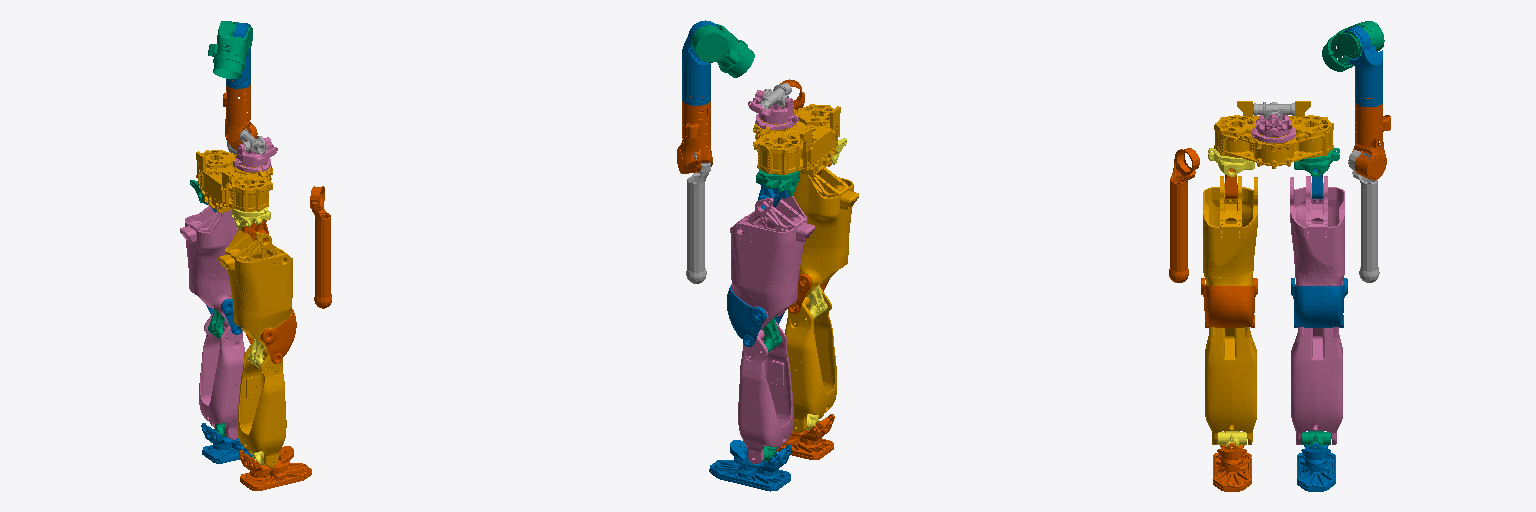
--- Render facts (derived) ---
The picture shows the robot from 3 angles, left to right: view 1: azimuth 30°, elevation 25°; view 2: azimuth 150°, elevation 25°; view 3: azimuth 270°, elevation 25°; orthographic projection.
Model nadia with 38 links and 37 joints (27 revolute, 10 fixed), rooted at PELVIS_LINK, posed all joints at 0.
Links seen in each view (by area): view 1: RIGHT_THIGH_LINK, RIGHT_SHIN_LINK, LEFT_THIGH_LINK, LEFT_SHIN_LINK, PELVIS_LINK, RIGHT_ELBOW_PITCH_LINK, RIGHT_FOOT_LINK, LEFT_SHOULDER_PITCH_LINK, LEFT_SHOULDER_YAW_LINK, RIGHT_KNEE_SHELL_LINK, LEFT_FOOT_LINK, SPINE_YAW_LINK (+2 smaller); view 2: LEFT_THIGH_LINK, LEFT_SHIN_LINK, RIGHT_THIGH_LINK, RIGHT_SHIN_LINK, PELVIS_LINK, LEFT_FOOT_LINK, LEFT_SHOULDER_PITCH_LINK, LEFT_ELBOW_PITCH_LINK, LEFT_SHOULDER_YAW_LINK, LEFT_SHOULDER_ROLL_LINK, LEFT_KNEE_SHELL_LINK, RIGHT_FOOT_LINK (+3 smaller); view 3: LEFT_SHIN_LINK, RIGHT_SHIN_LINK, LEFT_THIGH_LINK, RIGHT_THIGH_LINK, PELVIS_LINK, RIGHT_ELBOW_PITCH_LINK, RIGHT_KNEE_SHELL_LINK, LEFT_KNEE_SHELL_LINK, LEFT_SHOULDER_YAW_LINK, LEFT_ELBOW_PITCH_LINK, LEFT_SHOULDER_ROLL_LINK, LEFT_FOOT_LINK (+6 smaller).
Link boxes in pixels (left/top/right/bottom): RIGHT_THIGH_LINK: left=218, top=230, right=292, bottom=348; RIGHT_SHIN_LINK: left=237, top=341, right=286, bottom=467; LEFT_THIGH_LINK: left=180, top=205, right=237, bottom=320; LEFT_SHIN_LINK: left=199, top=312, right=244, bottom=439; PELVIS_LINK: left=196, top=150, right=272, bottom=212; RIGHT_ELBOW_PITCH_LINK: left=310, top=186, right=331, bottom=308; RIGHT_FOOT_LINK: left=239, top=446, right=311, bottom=490; LEFT_SHOULDER_PITCH_LINK: left=208, top=21, right=252, bottom=78; LEFT_SHOULDER_YAW_LINK: left=223, top=80, right=257, bottom=150; RIGHT_KNEE_SHELL_LINK: left=246, top=309, right=296, bottom=363; LEFT_FOOT_LINK: left=201, top=423, right=252, bottom=463; SPINE_YAW_LINK: left=233, top=136, right=277, bottom=172; LEFT_THIGH_LINK: left=730, top=196, right=814, bottom=329; LEFT_SHIN_LINK: left=738, top=320, right=793, bottom=464; RIGHT_THIGH_LINK: left=793, top=167, right=858, bottom=296; RIGHT_SHIN_LINK: left=785, top=287, right=836, bottom=432; PELVIS_LINK: left=753, top=104, right=840, bottom=175; LEFT_FOOT_LINK: left=709, top=440, right=791, bottom=491; LEFT_SHOULDER_PITCH_LINK: left=691, top=24, right=754, bottom=77; LEFT_ELBOW_PITCH_LINK: left=686, top=152, right=710, bottom=283; LEFT_SHOULDER_YAW_LINK: left=677, top=96, right=712, bottom=173; LEFT_SHOULDER_ROLL_LINK: left=682, top=20, right=718, bottom=105; LEFT_KNEE_SHELL_LINK: left=727, top=284, right=784, bottom=346; RIGHT_FOOT_LINK: left=777, top=414, right=834, bottom=459; LEFT_SHIN_LINK: left=1291, top=327, right=1342, bottom=444; RIGHT_SHIN_LINK: left=1205, top=327, right=1256, bottom=444; LEFT_THIGH_LINK: left=1290, top=176, right=1344, bottom=285; RIGHT_THIGH_LINK: left=1203, top=176, right=1257, bottom=285; PELVIS_LINK: left=1214, top=101, right=1333, bottom=168; RIGHT_ELBOW_PITCH_LINK: left=1169, top=148, right=1199, bottom=282; RIGHT_KNEE_SHELL_LINK: left=1201, top=278, right=1257, bottom=327; LEFT_KNEE_SHELL_LINK: left=1291, top=278, right=1347, bottom=327; LEFT_SHOULDER_YAW_LINK: left=1348, top=97, right=1390, bottom=179; LEFT_ELBOW_PITCH_LINK: left=1348, top=150, right=1379, bottom=282; LEFT_SHOULDER_ROLL_LINK: left=1343, top=26, right=1382, bottom=106; LEFT_FOOT_LINK: left=1297, top=431, right=1335, bottom=491.
Bounding box of the posed robot: 0.3882 × 0.6883 × 1.56 m (x, y, z).
24 mesh visuals loaded from 26 distinct referenced files (22 OBJ); not drawn: 4 (reference not matched to a file when rendering).

URDF robot description (nadia):
<?xml version = "1.0" ?>
<robot name="nadia" xmlns:xacro="http://www.ros.org/wiki/xacro">

<!-- revolute joints -->
<joint name="LEFT_HIP_Z" type="revolute">
    <origin rpy="0 0 0" xyz="0 0.115 -0.07185" />
    <axis xyz="0 0 -1" />
    <parent link="PELVIS_LINK" />
    <child link="LEFT_HIP_YAW_LINK" />
    <limit effort="1000" lower="-0.7854" upper="0.7854" velocity = "100" />
    <dynamics damping="0.05" friction="0.0"/>
</joint>

<joint name="RIGHT_HIP_Z" type="revolute">
    <origin rpy="0 0 0" xyz="0 -0.115 -0.07185" />
    <axis xyz="0 0 -1" />
    <parent link="PELVIS_LINK" />
    <child link="RIGHT_HIP_YAW_LINK" />
    <limit effort="1000" lower="-0.7854" upper="0.7854" velocity = "100" />
    <dynamics damping="0.05" friction="0.0"/>
</joint>

<joint name="LEFT_HIP_X" type="revolute">
    <origin rpy="0 0 0" xyz="0.035 0.015 -0.04975" />
    <axis xyz="1 0 0" />
    <parent link="LEFT_HIP_YAW_LINK" />
    <child link="LEFT_HIP_ROLL_LINK" />
    <limit effort="1000" lower="-0.5236" upper="1.0472" velocity = "100" />
    <dynamics damping="0.05" friction="0.0"/>
</joint>

<joint name="RIGHT_HIP_X" type="revolute">
    <origin rpy="0 0 0" xyz="0.035 -0.015 -0.04975" />
    <axis xyz="1 0 0" />
    <parent link="RIGHT_HIP_YAW_LINK" />
    <child link="RIGHT_HIP_ROLL_LINK" />
    <limit effort="1000" lower="-1.0472" upper="0.5236" velocity = "100" />
    <dynamics damping="0.05" friction="0.0"/>
</joint>

<joint name="LEFT_HIP_Y" type="revolute">
    <origin rpy="0 0 0" xyz="0 0 -0.079068" />
    <axis xyz="0 1 0" />
    <parent link="LEFT_HIP_ROLL_LINK" />
    <child link="LEFT_THIGH_LINK" />
    <limit effort="1000" lower="-1.57" upper="0.314" velocity = "100" />
    <dynamics damping="0.05" friction="0.0"/>
</joint>

<joint name="RIGHT_HIP_Y" type="revolute">
    <origin rpy="0 0 0" xyz="0 0 -0.079068" />
    <axis xyz="0 1 0" />
    <parent link="RIGHT_HIP_ROLL_LINK" />
    <child link="RIGHT_THIGH_LINK" />
    <limit effort="1000" lower="-1.57" upper="0.314" velocity = "100" />
    <dynamics damping="0.05" friction="0.0"/>
</joint>

<joint name="LEFT_KNEE_SHELL_UPPER_Y" type="revolute">
    <origin rpy="0 0 0" xyz="-0.02113091 0 -0.33468461" />
    <axis xyz="0 1 0" />
    <parent link="LEFT_THIGH_LINK" />
    <child link="LEFT_KNEE_SHELL_LINK" />
    <limit effort="1000" lower="0" upper="2.62" velocity = "100" />
    <dynamics damping="0.05" friction="0.0"/>
</joint>

<joint name="RIGHT_KNEE_SHELL_UPPER_Y" type="revolute">
    <origin rpy="0 0 0" xyz="-0.02113091 0 -0.33468461" />
    <axis xyz="0 1 0" />
    <parent link="RIGHT_THIGH_LINK" />
    <child link="RIGHT_KNEE_SHELL_LINK" />
    <limit effort="1000" lower="0" upper="2.62" velocity = "100" />
    <dynamics damping="0.05" friction="0.0"/>
</joint>

<joint name="LEFT_KNEE_LINKAGE_UPPER_Y" type="revolute">
    <origin rpy="0 0 0" xyz="0 0 -0.38" />
    <axis xyz="0 1 0" />
    <parent link="LEFT_THIGH_LINK" />
    <child link="LEFT_KNEE_LINKAGE_LINK" />
    <limit effort="1000" lower="0" upper="2.62" velocity = "100" />
    <dynamics damping="0.05" friction="0.0"/>
</joint>

<joint name="RIGHT_KNEE_LINKAGE_UPPER_Y" type="revolute">
    <origin rpy="0 0 0" xyz="0 0 -0.38" />
    <axis xyz="0 1 0" />
    <parent link="RIGHT_THIGH_LINK" />
    <child link="RIGHT_KNEE_LINKAGE_LINK" />
    <limit effort="1000" lower="0" upper="2.62" velocity = "100" />
    <dynamics damping="0.05" friction="0.0"/>
</joint>

<joint name="LEFT_KNEE_SHELL_LOWER_Y" type="revolute">
    <origin rpy="0 0 0" xyz="0.04231885 0 -0.10153381" />
    <axis xyz="0 1 0" />
    <parent link="LEFT_KNEE_SHELL_LINK" />
    <child link="LEFT_SHIN_LINK" />
    <limit effort="1000" lower="0" upper="2.62" velocity = "100" />
    <dynamics damping="0.05" friction="0.0"/>
</joint>

<joint name="RIGHT_KNEE_SHELL_LOWER_Y" type="revolute">
    <origin rpy="0 0 0" xyz="0.04231885 0 -0.10153381" />
    <axis xyz="0 1 0" />
    <parent link="RIGHT_KNEE_SHELL_LINK" />
    <child link="RIGHT_SHIN_LINK" />
    <limit effort="1000" lower="0" upper="2.62" velocity = "100" />
    <dynamics damping="0.05" friction="0.0"/>
</joint>

<!--joint name="LEFT_KNEE_LINKAGE_LOWER_Y" type="revolute">
    <origin rpy="0 0 0" xyz="-0.01711428 0 -0.0883578" />
    <axis xyz="0 1 0" />
    <parent link="LEFT_KNEE_LINKAGE_LINK" />
    <child link="LEFT_SHIN_LINK" />
    <limit effort="1000" lower="0" upper="2.62" velocity = "100" />
    <dynamics damping="0.05" friction="0.0"/>
</joint>

<joint name="RIGHT_KNEE_LINKAGE_LOWER_Y" type="revolute">
    <origin rpy="0 0 0" xyz="-0.01711428 0 -0.0883578" />
    <axis xyz="0 1 0" />
    <parent link="RIGHT_KNEE_LINKAGE_LINK" />
    <child link="RIGHT_SHIN_LINK" />
    <limit effort="1000" lower="0" upper="2.62" velocity = "100" />
    <dynamics damping="0.05" friction="0.0"/>
</joint-->

<joint name="LEFT_ANKLE_Y" type="revolute">
    <origin rpy="0 0 0" xyz="-0.00830222 0 -0.40213938" />
    <axis xyz="0 1 0" />
    <parent link="LEFT_SHIN_LINK" />
    <child link="LEFT_ANKLE_LINK" />
    <limit effort="1000" lower="-1.0472" upper="0.698132" velocity = "100" />
    <dynamics damping="0.05" friction="0.0"/>
</joint>

<joint name="RIGHT_ANKLE_Y" type="revolute">
    <origin rpy="0 0 0" xyz="-0.00830222 0 -0.40213938" />
    <axis xyz="0 1 0" />
    <parent link="RIGHT_SHIN_LINK" />
    <child link="RIGHT_ANKLE_LINK" />
    <limit effort="1000" lower="-1.0472" upper="0.698132" velocity = "100" />
    <dynamics damping="0.05" friction="0.0"/>
</joint>

<joint name="LEFT_ANKLE_X" type="revolute">
    <origin rpy="0 0 0" xyz="0 0 -0.01" />
    <axis xyz="1 0 0" />
    <parent link="LEFT_ANKLE_LINK" />
    <child link="LEFT_FOOT_LINK" />
    <limit effort="1000" lower="-0.436332" upper="0.436332" velocity = "100" />
    <dynamics damping="0.05" friction="0.0"/>
</joint>

<joint name="RIGHT_ANKLE_X" type="revolute">
    <origin rpy="0 0 0" xyz="0 0 -0.01" />
    <axis xyz="1 0 0" />
    <parent link="RIGHT_ANKLE_LINK" />
    <child link="RIGHT_FOOT_LINK" />
    <limit effort="1000" lower="-0.436332" upper="0.436332" velocity = "100" />
    <dynamics damping="0.05" friction="0.0"/>
</joint>

<joint name="SPINE_Z" type="revolute">
    <origin rpy="0 0 0" xyz="0.08 0 0.00635" />
    <axis xyz="0 0 1" />
    <parent link="PELVIS_LINK" />
    <child link="SPINE_YAW_LINK" />
    <limit effort="1000" lower="-1.0472" upper="1.0472" velocity = "100" />
    <dynamics damping="0.05" friction="0.0"/>
</joint>

<joint name="SPINE_X" type="revolute">
    <origin rpy="0 0 0" xyz="0 0 0.08205" />
    <axis xyz="1 0 0" />
    <parent link="SPINE_YAW_LINK" />
    <child link="SPINE_ROLL_LINK" />
    <limit effort="1000" lower="-0.523599" upper="0.523599" velocity = "100" />
    <dynamics damping="0.05" friction="0.0"/>
</joint>

<joint name="SPINE_Y" type="revolute">
    <origin rpy="0 0 0" xyz="0 0 0.01" />
    <axis xyz="0 1 0" />
    <parent link="SPINE_ROLL_LINK" />
    <child link="TORSO_LINK" />
    <limit effort="1000" lower="-1.0472" upper="1.0472" velocity = "100" />
    <dynamics damping="0.05" friction="0.0"/>
</joint>


<!-- links -->
<link name="PELVIS_LINK">
  <inertial>
    <mass value="19.0917"/>
    <origin rpy="0 0 0" xyz="0.02073086 2.023E-05 -0.0309812"/>
    <inertia ixx="0.0942" ixy="6.05E-06" ixz="0.000379" iyy="0.0416" iyz="3.37E-07" izz="0.112" />
  </inertial>
  <visual>
    <geometry>
      <mesh filename="package://nadia_V16_description/meshes/pelvis.obj"/>
    </geometry>
    <origin rpy="0.0 0.0 0.0" xyz="0.0 0.0 0.0"/>
  </visual>
</link>

<!-- pelvis_stim_imu -->
  <joint name="PELVIS_STIM_IMU_JOINT" type="fixed">
    <parent link="PELVIS_LINK"/>
    <child link="PELVIS_STIM_IMU_LINK"/>
    <origin xyz="-0.03133646 0.02237500 -0.07000000" rpy="0.0 3.141592 0.0"/>
  </joint>

  <link name="PELVIS_STIM_IMU_LINK">
    <inertial>
      <mass value="0.0" />
      <origin xyz="0 0 0" rpy="0 0 0" />
      <inertia ixx="0.0" ixy="0.0" ixz="0.0" iyy="0.0" iyz="0.0" izz="0.0" />
    </inertial>
  </link>

  <gazebo reference="PELVIS_STIM_IMU_LINK">
    <sensor name="pelvis_stim_imu" type="imu">
      <always_on>1</always_on>
      <update_rate>1000.0</update_rate>
      <imu>
        <noise>
          <type>gaussian</type>
          <rate>
            <mean>0.0</mean>
            <stddev>2e-4</stddev>
            <bias_mean>0.0000075</bias_mean>
            <bias_stddev>0.0000008</bias_stddev>
          </rate>
          <accel>
            <mean>0.0</mean>
            <stddev>1.7e-2</stddev>
            <bias_mean>0.1</bias_mean>
            <bias_stddev>0.001</bias_stddev>
          </accel>
        </noise>
      </imu>
    </sensor>
  </gazebo>
 <!-- end pelvis stim imu -->

<link name="LEFT_HIP_YAW_LINK">
  <inertial>
    <mass value="1.814"/>
    <origin rpy="0 0 0" xyz="-0.00629727 0.00606893 -0.03971844"/>
    <inertia ixx="0.004741914" ixy="0.000527" ixz="-0.000307" iyy="0.00414" iyz="1.36E-05" izz="0.00569" />
  </inertial>
  <visual>
    <geometry>
      <mesh filename="package://nadia_V16_description/meshes/left_hip_yaw.obj"/>
    </geometry>
    <origin rpy="0.0 0.0 0.0" xyz="0.0 0.0 0.0"/>
  </visual>
</link>

<link name="RIGHT_HIP_YAW_LINK">
  <inertial>
    <mass value="1.814"/>
    <origin rpy="0 0 0" xyz="-0.00629727 -0.00606893 -0.03971844"/>
    <inertia ixx="0.004741914" ixy="-0.000527" ixz="-0.000307" iyy="0.00414" iyz="-1.36E-05" izz="0.00569" />
  </inertial>
  <visual>
    <geometry>
      <mesh filename="package://nadia_V16_description/meshes/right_hip_yaw.obj"/>
    </geometry>
    <origin rpy="0.0 0.0 0.0" xyz="0.0 0.0 0.0"/>
  </visual>
</link>

<link name="LEFT_HIP_ROLL_LINK">
  <inertial>
    <mass value="0.762"/>
    <origin rpy="0 0 0" xyz="-0.01327037 0.00316985 -0.05399997"/>
    <inertia ixx="0.001028994" ixy="-9.31E-06" ixz="0.000352" iyy="0.00138" iyz="3.22E-05" izz="0.000663" />
  </inertial>
  <visual>
    <geometry>
      <mesh filename="package://nadia_V16_description/meshes/left_hip_roll.obj"/>
    </geometry>
    <origin rpy="0.0 0.0 0.0" xyz="0.0 0.0 0.0"/>
  </visual>
</link>

<link name="RIGHT_HIP_ROLL_LINK">
  <inertial>
    <mass value="0.762"/>
    <origin rpy="0 0 0" xyz="-0.01327037 -0.00316985 -0.05399997"/>
    <inertia ixx="0.001028994" ixy="9.31E-06" ixz="0.000352" iyy="0.00138" iyz="-3.22E-05" izz="0.000663" />
  </inertial>
  <visual>
    <geometry>
      <mesh filename="package://nadia_V16_description/meshes/right_hip_roll.obj"/>
    </geometry>
    <origin rpy="0.0 0.0 0.0" xyz="0.0 0.0 0.0"/>
  </visual>
</link>

<link name="LEFT_THIGH_LINK">
  <inertial>
    <mass value="10.953"/>
    <origin rpy="0 0 0" xyz="-0.00093749 0.01134511 -0.17863144"/>
    <inertia ixx="0.1622268263" ixy="-0.000749" ixz="0.0156" iyy="0.174" iyz="0.00213" izz="0.0528" />
  </inertial>
  <visual>
    <geometry>
      <mesh filename="package://nadia_V16_description/meshes/left_thigh.obj"/>
    </geometry>
    <origin rpy="0.0 0.0 0.0" xyz="0.0 0.0 0.0"/>
  </visual>
</link>

<!-- left thigh imu -->
  <joint name="LEFT_THIGH_IMU_JOINT" type="fixed">
    <parent link="LEFT_THIGH_LINK"/>
    <child link="LEFT_THIGH_IMU_LINK"/>
    <origin xyz="0.05793744 0.01666131 -0.09511697" rpy="2.025  0.000 -1.571"/>  
  </joint>

  <link name="LEFT_THIGH_IMU_LINK">
    <inertial>
      <mass value="0.0" />
      <origin xyz="0 0 0" rpy="0 0 0" />
      <inertia ixx="0.0" ixy="0.0" ixz="0.0" iyy="0.0" iyz="0.0" izz="0.0" />
    </inertial>
  </link>

  <gazebo reference="LEFT_THIGH_IMU_LINK">
    <sensor name="left_thigh_imu" type="imu">
      <always_on>1</always_on>
      <update_rate>1000.0</update_rate>
      <imu>
        <noise>
          <type>gaussian</type>
          <rate>
            <mean>0.0</mean>
            <stddev>2e-4</stddev>
            <bias_mean>0.0000075</bias_mean>
            <bias_stddev>0.0000008</bias_stddev>
          </rate>
          <accel>
            <mean>0.0</mean>
            <stddev>1.7e-2</stddev>
            <bias_mean>0.1</bias_mean>
            <bias_stddev>0.001</bias_stddev>
          </accel>
        </noise>
      </imu>
    </sensor>
  </gazebo>
<!-- end left thigh imu -->

<link name="RIGHT_THIGH_LINK">
  <inertial>
    <mass value="10.953"/>
    <origin rpy="0 0 0" xyz="-0.00093749 -0.01134511 -0.17863144"/>
    <inertia ixx="0.1622268263" ixy="0.000749" ixz="0.0156" iyy="0.174" iyz="-0.00213" izz="0.0528" />
  </inertial>
  <visual>
    <geometry>
      <mesh filename="package://nadia_V16_description/meshes/right_thigh.obj"/>
    </geometry>
    <origin rpy="0.0 0.0 0.0" xyz="0.0 0.0 0.0"/>
  </visual>
</link>

<!-- right thigh imu -->
  <joint name="RIGHT_THIGH_IMU_JOINT" type="fixed">
    <parent link="RIGHT_THIGH_LINK"/>
    <child link="RIGHT_THIGH_IMU_LINK"/>
    <origin xyz="0.05793670 0.01066129 -0.09511742" rpy="2.025  0.000 -1.571"/>  
  </joint>

  <link name="RIGHT_THIGH_IMU_LINK">
    <inertial>
      <mass value="0.0" />
      <origin xyz="0 0 0" rpy="0 0 0" />
      <inertia ixx="0.0" ixy="0.0" ixz="0.0" iyy="0.0" iyz="0.0" izz="0.0" />
    </inertial>
  </link>

  <gazebo reference="RIGHT_THIGH_IMU_LINK">
    <sensor name="right_thigh_imu" type="imu">
      <always_on>1</always_on>
      <update_rate>1000.0</update_rate>
      <imu>
        <noise>
          <type>gaussian</type>
          <rate>
            <mean>0.0</mean>
            <stddev>2e-4</stddev>
            <bias_mean>0.0000075</bias_mean>
            <bias_stddev>0.0000008</bias_stddev>
          </rate>
          <accel>
            <mean>0.0</mean>
            <stddev>1.7e-2</stddev>
            <bias_mean>0.1</bias_mean>
            <bias_stddev>0.001</bias_stddev>
          </accel>
        </noise>
      </imu>
    </sensor>
  </gazebo>
<!-- end right thigh imu -->

<link name="LEFT_KNEE_LINKAGE_LINK">
  <inertial>
    <mass value="0.936"/>
    <origin rpy="0 0 0" xyz="0.00901763 0.00753613 -0.04368231"/>
    <inertia ixx="0.002617337" ixy="3.06E-07" ixz="0.000313" iyy="0.00159" iyz="1.51E-06" izz="0.00128" />
  </inertial>
  <visual>
    <geometry>
      <mesh filename="package://nadia_V16_description/meshes/left_knee_linkage.obj"/>
    </geometry>
    <origin rpy="0.0 0.0 0.0" xyz="0.0 0.0 0.0"/>
  </visual>
</link>

<link name="RIGHT_KNEE_LINKAGE_LINK">
  <inertial>
    <mass value="0.936"/>
    <origin rpy="0 0 0" xyz="0.00901763 -0.00753613 -0.04368231"/>
    <inertia ixx="0.002617337" ixy="-3.06E-07" ixz="0.000313" iyy="0.00159" iyz="-1.51E-06" izz="0.00128" />
  </inertial>
  <visual>
    <geometry>
      <mesh filename="package://nadia_V16_description/meshes/right_knee_linkage.obj"/>
    </geometry>
    <origin rpy="0.0 0.0 0.0" xyz="0.0 0.0 0.0"/>
  </visual>
</link>

<link name="LEFT_KNEE_SHELL_LINK">
  <inertial>
    <mass value="1.101"/>
    <origin rpy="0 0 0" xyz="0.02489954 0.00826196 -0.05330217"/>
    <inertia ixx="0.00642" ixy="-3.64E-05" ixz="1.43E-05" iyy="0.00456" iyz="-6.54E-05" izz="0.00566" />
  </inertial>
  <visual>
    <geometry>
      <mesh filename="package://nadia_V16_description/meshes/left_knee_shell.obj"/>
    </geometry>
    <origin rpy="0.0 0.0 0.0" xyz="0.0 0.0 0.0"/>
  </visual>
</link>

<link name="RIGHT_KNEE_SHELL_LINK">
  <inertial>
    <mass value="1.101"/>
    <origin rpy="0 0 0" xyz="0.02489954 -0.00826196 -0.05330217"/>
    <inertia ixx="0.00642" ixy="3.64E-05" ixz="1.43E-05" iyy="0.00456" iyz="6.54E-05" izz="0.00566" />
  </inertial>
  <visual>
    <geometry>
      <mesh filename="package://nadia_V16_description/meshes/right_knee_shell.obj"/>
    </geometry>
    <origin rpy="0.0 0.0 0.0" xyz="0.0 0.0 0.0"/>
  </visual>
</link>

<link name="LEFT_SHIN_LINK">
  <inertial>
    <mass value="5.42"/>
    <origin rpy="0 0 0" xyz="-0.01841492 0.00228086 -0.22054239"/>
    <inertia ixx="0.064437783" ixy="-0.000214" ixz="-0.00538" iyy="0.0583" iyz="-0.000962" izz="0.0136" />
  </inertial>
  <visual>
    <geometry>
      <mesh filename="package://nadia_V16_description/meshes/left_shin.obj"/>
    </geometry>
    <origin rpy="0.0 0.0 0.0" xyz="0.0 0.0 0.0"/>
  </visual>
</link>


<!-- left shin imu -->
  <joint name="LEFT_SHIN_IMU_JOINT" type="fixed">
    <parent link="LEFT_SHIN_LINK"/>
    <child link="LEFT_SHIN_IMU_LINK"/>
    <origin xyz="-0.03216129 -0.07159184 -0.1864738" rpy="-1.570796 0.0 0.0"/>  
  </joint>

  <link name="LEFT_SHIN_IMU_LINK">
    <inertial>
      <mass value="0.0" />
      <origin xyz="0 0 0" rpy="0 0 0" />
      <inertia ixx="0.0" ixy="0.0" ixz="0.0" iyy="0.0" iyz="0.0" izz="0.0" />
    </inertial>
  </link>

  <gazebo reference="LEFT_SHIN_IMU_LINK">
    <sensor name="left_shin_imu" type="imu">
      <always_on>1</always_on>
      <update_rate>1000.0</update_rate>
      <imu>
        <noise>
          <type>gaussian</type>
          <rate>
            <mean>0.0</mean>
            <stddev>2e-4</stddev>
            <bias_mean>0.0000075</bias_mean>
            <bias_stddev>0.0000008</bias_stddev>
          </rate>
          <accel>
            <mean>0.0</mean>
            <stddev>1.7e-2</stddev>
            <bias_mean>0.1</bias_mean>
            <bias_stddev>0.001</bias_stddev>
          </accel>
        </noise>
      </imu>
    </sensor>
  </gazebo>
<!-- end left shin imu -->

<link name="RIGHT_SHIN_LINK">
  <inertial>
    <mass value="5.42"/>
    <origin rpy="0 0 0" xyz="-0.01837047 -0.00241134 -0.21991278"/>
    <inertia ixx="0.064443143" ixy="0.000202" ixz="-0.00539" iyy="0.0583" iyz="0.000906" izz="0.0136" />
  </inertial>
  <visual>
    <geometry>
      <mesh filename="package://nadia_V16_description/meshes/right_shin.obj"/>
    </geometry>
    <origin rpy="0.0 0.0 0.0" xyz="0.0 0.0 0.0"/>
  </visual>
</link>

<!-- right shin imu -->
  <joint name="RIGHT_SHIN_IMU_JOINT" type="fixed">
    <parent link="RIGHT_SHIN_LINK"/>
    <child link="RIGHT_SHIN_IMU_LINK"/>
    <origin xyz="-0.002838710 0.07159142 -0.1864738" rpy="-1.570796 0.0 3.141592"/>  
  </joint>

  <link name="RIGHT_SHIN_IMU_LINK">
    <inertial>
      <mass value="0.0" />
      <origin xyz="0 0 0" rpy="0 0 0" />
      <inertia ixx="0.0" ixy="0.0" ixz="0.0" iyy="0.0" iyz="0.0" izz="0.0" />
    </inertial>
  </link>

  <gazebo reference="RIGHT_SHIN_IMU_LINK">
    <sensor name="right_shin_imu" type="imu">
      <always_on>1</always_on>
      <update_rate>1000.0</update_rate>
      <imu>
        <noise>
          <type>gaussian</type>
          <rate>
            <mean>0.0</mean>
            <stddev>2e-4</stddev>
            <bias_mean>0.0000075</bias_mean>
            <bias_stddev>0.0000008</bias_stddev>
          </rate>
          <accel>
            <mean>0.0</mean>
            <stddev>1.7e-2</stddev>
            <bias_mean>0.1</bias_mean>
            <bias_stddev>0.001</bias_stddev>
          </accel>
        </noise>
      </imu>
    </sensor>
  </gazebo>
<!-- end right shin imu -->

<link name="LEFT_ANKLE_LINK">
  <inertial>
    <mass value="0.56"/>
    <origin rpy="0 0 0" xyz="-0.00072338 -6.619E-05 -0.00399965"/>
    <inertia ixx="0.000459" ixy="2.65E-08" ixz="-2.43E-06" iyy="0.000336" iyz="1.48E-07" izz="0.000645" />
  </inertial>
  <visual>
    <geometry>
      <mesh filename="package://nadia_V16_description/meshes/ankle.obj"/>
    </geometry>
    <origin rpy="0.0 0.0 0.0" xyz="0.0 0.0 0.0"/>
  </visual>
</link>

<link name="RIGHT_ANKLE_LINK">
  <inertial>
    <mass value="0.56"/>
    <origin rpy="0 0 0" xyz="-0.00072338 6.619E-05 -0.00399965"/>
    <inertia ixx="0.000459" ixy="-2.65E-08" ixz="-2.43E-06" iyy="0.000336" iyz="-1.48E-07" izz="0.000645" />
  </inertial>
  <visual>
    <geometry>
      <mesh filename="package://nadia_V16_description/meshes/ankle.obj"/>
    </geometry>
    <origin rpy="0.0 0.0 0.0" xyz="0.0 0.0 0.0"/>
  </visual>
</link>

<link name="LEFT_FOOT_LINK">
  <inertial>
    <mass value="1.75"/>
    <origin rpy="0 0 0" xyz="0.03075449 0.00007807 -0.04382467"/>
    <inertia ixx="0.00345011" ixy="-0.0000073" ixz="0.0014225" iyy="0.00955764" iyz="-2.269e-7" izz="0.00881313" />
  </inertial>
  <visual>
    <geometry>
      <mesh filename="package://nadia_V16_description/meshes/foot.obj"/>
    </geometry>
    <origin rpy="0.0 0.0 0.0" xyz="0.0 0.0 0.0"/>
  </visual>
</link>

<link name="RIGHT_FOOT_LINK">
  <inertial>
    <mass value="1.75"/>
    <origin rpy="0 0 0" xyz="0.032048 4e-06 -0.028422"/>
    <inertia ixx="0.00345011" ixy="-0.0000073" ixz="0.0014225" iyy="0.00955764" iyz="-2.269e-7" izz="0.00881313" />
  </inertial>
  <visual>
    <geometry>
      <mesh filename="package://nadia_V16_description/meshes/foot.obj"/>
    </geometry>
    <origin rpy="0.0 0.0 0.0" xyz="0.0 0.0 0.0"/>
  </visual>
</link>

<link name="SPINE_YAW_LINK">
  <inertial>
    <mass value="0.91"/>
    <origin rpy="0 0 0" xyz="-0.00853118 -2.697E-05 0.03791445"/>
    <inertia ixx="0.00374289408" ixy="1.25497934E-07" ixz="0.000271325072" iyy="0.00403002777" iyz="-1.38015692E-07" izz="0.0062129847" />
  </inertial>
  <visual>
    <geometry>
      <mesh filename="package://nadia_V16_description/meshes/spine_yaw.obj"/>
    </geometry>
    <origin rpy="0.0 0.0 0.0" xyz="0.0 0.0 0.0"/>
  </visual>
</link>

<link name="SPINE_ROLL_LINK">
  <inertial>
    <mass value="0.44"/>
    <origin rpy="0 0 0" xyz="-0.01904983 7E-08 0.01979244"/>
    <inertia ixx="0.000373262301" ixy="-1.51441878E-10" ixz="-6.69067307E-05" iyy="0.000649978475" iyz="-1.27858402E-10" izz="0.000419408851" />
  </inertial>
  <visual>
    <geometry>
      <mesh filename="package://nadia_V16_description/meshes/spine_roll.obj"/>
    </geometry>
    <origin rpy="0.0 0.0 0.0" xyz="0.0 0.0 0.0"/>
  </visual>
</link>

<link name="TORSO_LINK">
  <inertial>
    <mass value="16.1"/>
    <origin rpy="0 0 0" xyz="-0.03613868 -2.81E-06 0.25908586"/>
    <inertia ixx="0.534504681" ixy="8.41519717E-05" ixz="-0.00672956305" iyy="0.505409852" iyz="0.000207996773" izz="0.379402013" />
  </inertial>
  <visual>
    <geometry>
      <mesh filename="package://nadia_V16_description/meshes/torso_cycloidmounts.obj"/>
    </geometry>
    <origin rpy="0.0 0.0 0.0" xyz="0.0 0.0 0.0"/>
  </visual>
</link>

<!-- torso imu -->
  <joint name="TORSO_IMU_JOINT" type="fixed">
    <parent link="TORSO_LINK"/>
    <child link="TORSO_IMU_LINK"/>
    <origin xyz="0.04529 -0.02427 0.33757" rpy="3.141592 0 0"/>  
  </joint>

  <link name="TORSO_IMU_LINK">
    <inertial>
      <mass value="0.0" />
      <origin xyz="0 0 0" rpy="0 0 0" />
      <inertia ixx="0.0" ixy="0.0" ixz="0.0" iyy="0.0" iyz="0.0" izz="0.0" />
    </inertial>
  </link>

  <gazebo reference="TORSO_IMU_LINK">
    <sensor name="torso_imu" type="imu">
      <always_on>1</always_on>
      <update_rate>1000.0</update_rate>
      <imu>
        <noise>
          <type>gaussian</type>
          <rate>
            <mean>0.0</mean>
            <stddev>2e-4</stddev>
            <bias_mean>0.0000075</bias_mean>
            <bias_stddev>0.0000008</bias_stddev>
          </rate>
          <accel>
            <mean>0.0</mean>
            <stddev>1.7e-2</stddev>
            <bias_mean>0.1</bias_mean>
            <bias_stddev>0.001</bias_stddev>
          </accel>
        </noise>
      </imu>
    </sensor>
  </gazebo>
<!-- end torso imu -->

<!-- left arm -->
<joint name="LEFT_SHOULDER_Y" type="revolute">
    <origin xyz="0.001 0.185 0.173" rpy="0.785398163 0.0 -0.785398163"   />
    <axis xyz="0.0 1.0 0.0" />
    <parent link="TORSO_LINK" />
    <child link="LEFT_SHOULDER_PITCH_LINK" />

    <!-- Peak torque, 10s duration -->
<!--    <limit effort="165.98" lower="-3.141592" upper="1.22173" velocity = "100" />-->

    <!-- Peak continuous torque -->
    <limit effort="51.87" lower="-3.141592" upper="1.22173" velocity = "100" />

    <dynamics damping="0.05" friction="0.0"/>
</joint>
<joint name="LEFT_SHOULDER_X" type="revolute">
    <origin rpy="-0.785398163 0.0 0.0" xyz="0.0 0.15676000 -0.01300000" />
    <axis xyz="1 0 0" />
    <parent link="LEFT_SHOULDER_PITCH_LINK" />
    <child link="LEFT_SHOULDER_ROLL_LINK" />

    <!-- Peak torque, 10s duration -->
<!--    <limit effort="183.74" lower="-0.261799" upper="2.87979" velocity = "100" />-->

    <!-- Peak continuous torque -->
    <limit effort="57.45" lower="-0.261799" upper="2.87979" velocity = "100" />

    <dynamics damping="0.05" friction="0.0"/>
</joint>
<joint name="LEFT_SHOULDER_Z" type="revolute">
    <origin rpy="0.0 0.0 0.0" xyz="0.0 0.035 0.0" />
    <axis xyz="0.0 0.0 1.0" />
    <parent link="LEFT_SHOULDER_ROLL_LINK" />
    <child link="LEFT_SHOULDER_YAW_LINK" />

    <!-- Peak current, 10s duration -->
<!--    <limit effort="78.37" lower="-1.91986" upper="1.22173" velocity = "100" />-->

    <!-- Peak continuous torque -->
    <limit effort="24.47" lower="-1.91986" upper="1.22173" velocity = "100" />

    <dynamics damping="0.05" friction="0.0"/>
</joint>
<joint name="LEFT_ELBOW_Y" type="revolute">
    <origin rpy="0.0 0.0 0.0" xyz="0.015 0.0 -0.4" />
    <axis xyz="0.0 1.0 0.0" />
    <parent link="LEFT_SHOULDER_YAW_LINK" />
    <child link="LEFT_ELBOW_PITCH_LINK" />

    <!-- Peak torque, 10s duration -->
<!--    <limit effort="78.37" lower="-2.35619" upper="0.174532925" velocity = "100" />-->

    <!-- Peak continuous torque -->
    <limit effort="24.47" lower="-2.35619" upper="0.174532925" velocity = "100" />

    <dynamics damping="0.05" friction="0.0"/>
</joint>

<link name="LEFT_SHOULDER_PITCH_LINK">
  <inertial>
    <mass value="2.917"/>
    <origin rpy="0 0 0" xyz="-0.00117 0.1400097 -0.00621"/>
    <inertia ixx="0.0108367" ixy="1.356e-4" ixz="-2.666e-5" iyy="0.00498324" iyz="0.00090758" izz="0.01142661" />
  </inertial>
  <visual>
    <geometry>
        <!-- DEFAULT MESH -->
      <mesh filename="package://nadia_V17_description/meshes/cycloidal_arm/LEFT_SHOULDER_PITCH_LINK.obj"/>

        <!-- MESH WITH IMU CHIP -->
<!--        <mesh filename="package://nadia_V17_description/meshes/cycloidal_arm/LEFT_SHOULDER_PITCH_LINK_WITH_IMU.obj"/>-->
    </geometry>
    <origin rpy="0.0 0.0 0.0" xyz="0.0 0.0 0.0"/>
  </visual>
</link>

<!-- LEFT SHOULDER PITCH IMU Information --> 
<joint name="LEFT_SHOULDER_PITCH_IMU_JOINT" type="fixed">
	<origin rpy="-1.570796 1.570796 0" xyz="0.0174 0.06944 -0.03025"/>
	<axis xyz="0 0 1"/>
	<parent link="LEFT_SHOULDER_PITCH_LINK"/>
	<child link="LEFT_SHOULDER_PITCH_IMU_LINK"/>
</joint>

<link name="LEFT_SHOULDER_PITCH_IMU_LINK">
    <inertial>
      <mass value="0"/>
      <origin rpy="0 0 0" xyz="0 0 0"/>
      <inertia ixx="0.0" ixy="0.0" ixz="0.0" iyy="0.0" iyz="0.0" izz="0.0"/>
    </inertial>
</link>

<gazebo reference="LEFT_SHOULDER_PITCH_IMU_LINK">
	<sensor name="left_shoulder_pitch_imu" type="imu">
	  <always_on>true</always_on>
	  <imu>
		<noise>
		  <type>gaussian</type>
		  <rate>
			<mean>0</mean>
			<stddev>0.0002</stddev>
			<bias_mean>7.5e-06</bias_mean>
			<bias_stddev>8e-07</bias_stddev>
		  </rate>
		  <accel>
			<mean>0</mean>
			<stddev>0.017</stddev>
			<bias_mean>0.1</bias_mean>
			<bias_stddev>0.001</bias_stddev>
		  </accel>
		</noise>
	  </imu>
	</sensor>
</gazebo>

<link name="LEFT_SHOULDER_ROLL_LINK">
  <inertial>
    <mass value="1.17068"/>
    <origin rpy="0 0 0" xyz="0.01053 0.02124 -0.1052690"/>
    <inertia ixx="0.00787035" ixy="1.667e-4" ixz="-0.00075945" iyy="0.00727481" iyz="0.000988837" izz="0.00182144" />
  </inertial>
  <visual>
    <geometry>
      <mesh filename="package://nadia_V17_description/meshes/cycloidal_arm/LEFT_SHOULDER_ROLL_LINK.obj"/>
    </geometry>
    <origin rpy="0.0 0.0 0.0" xyz="0.0 0.0 0.0"/>
  </visual>
</link>

<link name="LEFT_SHOULDER_YAW_LINK">
  <inertial>
    <mass value="2.53059"/>
    <origin rpy="0 0 0" xyz="0.00479 0.00062 -0.3624141"/>
    <inertia ixx="0.02277422" ixy="5.053e-5" ixz="0.0012266" iyy="0.0225956" iyz="-2.571e-4" izz="0.00260312" />
  </inertial>
  <visual>
    <geometry>
        <!-- DEFAULT MESH -->
        <mesh filename="package://nadia_V17_description/meshes/cycloidal_arm/LEFT_SHOULDER_YAW_LINK.obj"/>

        <!-- MESH WITH IMU CHIP -->
<!--        <mesh filename="package://nadia_V17_description/meshes/cycloidal_arm/LEFT_SHOULDER_YAW_LINK_WITH_IMU.obj"/>-->
    </geometry>
    <origin rpy="0.0 0.0 0.0" xyz="0.0 0.0 0.0"/>
  </visual>
</link>

<!-- Left Shoulder Yaw IMU -->
<joint name="LEFT_SHOULDER_YAW_IMU_JOINT" type="fixed">
	<origin rpy="-1.570796 3.1415926 -0.314159" xyz="-0.00763459 -0.0123324 -0.318"/>
	<axis xyz="0 0 1"/>
	<parent link="LEFT_SHOULDER_YAW_LINK"/> 
	<child link="LEFT_SHOULDER_YAW_IMU_LINK"/>
</joint>

<link name="LEFT_SHOULDER_YAW_IMU_LINK">
    <inertial>
      <mass value="0"/>
      <origin rpy="0 0 0" xyz="0 0 0"/>
      <inertia ixx="0.0" ixy="0.0" ixz="0.0" iyy="0.0" iyz="0.0" izz="0.0"/>
    </inertial>
 </link>

<gazebo reference="LEFT_SHOULDER_YAW_IMU_LINK">
<sensor name="left_shoulder_yaw_imu" type="imu">
  <always_on>true</always_on>
  <pose>0 0 0 0 0 0 </pose>
  <imu>
	<noise>
	  <type>gaussian</type>
	  <rate>
		<mean>0</mean>
		<stddev>0.0002</stddev>
		<bias_mean>7.5e-06</bias_mean>
		<bias_stddev>8e-07</bias_stddev>
	  </rate>
	  <accel>
		<mean>0</mean>
		<stddev>0.017</stddev>
		<bias_mean>0.1</bias_mean>
		<bias_stddev>0.001</bias_stddev>
	  </accel>
	</noise>
  </imu>
</sensor>
</gazebo>

<link name="LEFT_ELBOW_PITCH_LINK">
  <inertial>

      <!-- Normal forearm knub -->
      <mass value="0.616"/>
      <origin rpy="0 0 0" xyz="-0.01090935 -0.01147189 -0.10388715"/>
      <inertia ixx="0.00760733" ixy="2.242e-5" ixz="-2.583e-4" iyy="0.00767556" iyz="0.00061995" izz="4.554e-4" />

      <!-- 12lbs dumbbell -->
<!--    <mass value="5.9"/>-->
<!--    <origin rpy="0 0 0" xyz="0.05 0.0 -0.225"/>-->
<!--    <inertia ixx="0.05" ixy="2.242e-5" ixz="-2.583e-4" iyy="0.015" iyz="0.00061995" izz="0.05" />-->

  </inertial>
  <visual>
    <geometry>
      <mesh filename="package://nadia_V17_description/meshes/cycloidal_arm/LEFT_ELBOW_PITCH_LINK_413mm_LENGTH.obj"/>
    </geometry>
    <origin rpy="0.0 0.0 0.0" xyz="0.0 0.0 0.0"/>
  </visual>
</link>

<joint name="RIGHT_SHOULDER_Y" type="revolute">
    <origin xyz="0.001 -0.185 0.173" rpy="-0.785398163 0.0 0.785398163"   />
    <axis xyz="0.0 1.0 0.0" />
    <parent link="TORSO_LINK" />
    <child link="RIGHT_SHOULDER_PITCH_LINK" />

    <!-- Peak torque, 10s duration -->
    <limit effort="166.32" lower="-3.141592" upper="1.22173" velocity = "100" />

    <!-- Peak continuous torque -->
    <limit effort="41.50" lower="-3.141592" upper="1.22173" velocity = "100" />

    <dynamics damping="0.05" friction="0.0"/>
</joint>
<joint name="RIGHT_SHOULDER_X" type="revolute">
    <origin rpy="0.785398163 0.0 0.0" xyz="0.0 -0.15676000 -0.01300000" />
    <axis xyz="1 0 0" />
    <parent link="RIGHT_SHOULDER_PITCH_LINK" />
    <child link="RIGHT_SHOULDER_ROLL_LINK" />

    <!-- Peak torque, 10s duration -->
    <limit effort="166.32" lower="-2.87979" upper="0.261799" velocity = "100" />

    <!-- Peak continuous torque -->
    <limit effort="41.50" lower="-2.87979" upper="0.261799" velocity = "100" />

    <dynamics damping="0.05" friction="0.0"/>
</joint>
<joint name="RIGHT_SHOULDER_Z" type="revolute">
    <origin rpy="0.0 0.0 0.0" xyz="0.0 -0.035 0.0" />
    <axis xyz="0.0 0.0 1.0" />
    <parent link="RIGHT_SHOULDER_ROLL_LINK" />
    <child link="RIGHT_SHOULDER_YAW_LINK" />

    <!-- Peak torque, 10s duration -->
    <limit effort="90.5" lower="-1.22173" upper="1.91986" velocity = "100" />

    <!-- Peak continuous torque -->
    <limit effort="22.59" lower="-1.22173" upper="1.91986" velocity = "100" />

    <dynamics damping="0.05" friction="0.0"/>
</joint>
<joint name="RIGHT_ELBOW_Y" type="revolute">
    <origin rpy="0.0 0.0 0.0" xyz="0.015 0.0 -0.4" />
    <axis xyz="0.0 1.0 0.0" />
    <parent link="RIGHT_SHOULDER_YAW_LINK" />
    <child link="RIGHT_ELBOW_PITCH_LINK" />

    <!-- Peak torque, 10s duration -->
    <limit effort="90.5" lower="-2.35619" upper="0.174532925" velocity = "100" />

    <!-- Peak continuous torque -->
    <limit effort="22.59" lower="-2.35619" upper="0.174532925" velocity = "100" />

    <dynamics damping="0.05" friction="0.0"/>
</joint>

<link name="RIGHT_SHOULDER_PITCH_LINK">
  <inertial>
    <mass value="2.917"/>
    <origin rpy="0 0 0" xyz="-0.00117 -0.1400097 -0.00621"/>
    <inertia ixx="0.0108367" ixy="-1.356e-4" ixz="-2.666e-5" iyy="0.00498324" iyz="-0.00090758" izz="0.01142661" />
  </inertial>
  <visual>
    <geometry>
        <!-- DEFAULT MESH -->
        <mesh filename="package://nadia_V17_description/meshes/cycloidal_arm/RIGHT_SHOULDER_PITCH_LINK.obj"/>

        <!-- MESH WITH IMU CHIP -->
<!--      <mesh filename="package://nadia_V17_description/meshes/cycloidal_arm/RIGHT_SHOULDER_PITCH_LINK_WITH_IMU.obj"/>-->
    </geometry>
    <origin rpy="0.0 0.0 0.0" xyz="0.0 0.0 0.0"/>
  </visual>
</link>

<!-- RIGHT SHOULDER PITCH IMU Information --> 
<joint name="RIGHT_SHOULDER_PITCH_IMU_JOINT" type="fixed">
	<origin rpy="1.570796 -1.570796 0" xyz="0.0175 -0.0704 -0.00778"/>
	<axis xyz="0 0 1"/>
	<parent link="RIGHT_SHOULDER_PITCH_LINK"/>
	<child link="RIGHT_SHOULDER_PITCH_IMU_LINK"/>
</joint>

<link name="RIGHT_SHOULDER_PITCH_IMU_LINK">
    <inertial>
      <mass value="0"/>
      <origin rpy="0 0 0" xyz="0 0 0"/>
      <inertia ixx="0.0" ixy="0.0" ixz="0.0" iyy="0.0" iyz="0.0" izz="0.0"/>
    </inertial>
</link>

<gazebo reference="RIGHT_SHOULDER_PITCH_IMU_LINK">
	<sensor name="right_shoulder_pitch_imu" type="imu">
	  <always_on>true</always_on>
	  <imu>
		<noise>
		  <type>gaussian</type>
		  <rate>
			<mean>0</mean>
			<stddev>0.0002</stddev>
			<bias_mean>7.5e-06</bias_mean>
			<bias_stddev>8e-07</bias_stddev>
		  </rate>
		  <accel>
			<mean>0</mean>
			<stddev>0.017</stddev>
			<bias_mean>0.1</bias_mean>
			<bias_stddev>0.001</bias_stddev>
		  </accel>
		</noise>
	  </imu>
	</sensor>
</gazebo>

<link name="RIGHT_SHOULDER_ROLL_LINK">
  <inertial>
    <mass value="1.17068"/>
    <origin rpy="0 0 0" xyz="0.01053 -0.02124 -0.1052690"/>
    <inertia ixx="0.00787035" ixy="-1.667e-4" ixz="-0.00075945" iyy="0.00727481" iyz="-0.000988837" izz="0.00182144" />
  </inertial>
  <visual>
    <geometry>
      <mesh filename="package://nadia_V17_description/meshes/cycloidal_arm/RIGHT_SHOULDER_ROLL_LINK.obj"/>
    </geometry>
    <origin rpy="0.0 0.0 0.0" xyz="0.0 0.0 0.0"/>
  </visual>
</link>

<link name="RIGHT_SHOULDER_YAW_LINK">
  <inertial>
    <mass value="2.53059"/>
    <origin rpy="0 0 0" xyz="0.00479 -0.00062 -0.3624141"/>
    <inertia ixx="0.02277422" ixy="-5.053e-5" ixz="0.0012266" iyy="0.0225956" iyz="2.571e-4" izz="0.00260312" />
  </inertial>
  <visual>
    <geometry>
        <!-- DEFAULT MESH -->
      <mesh filename="package://nadia_V17_description/meshes/cycloidal_arm/RIGHT_SHOULDER_YAW_LINK.obj"/>

        <!-- MESH WITH IMU CHIP -->
<!--      <mesh filename="package://nadia_V17_description/meshes/cycloidal_arm/RIGHT_SHOULDER_YAW_LINK_WITH_IMU.obj"/>-->
    </geometry>
    <origin rpy="0.0 0.0 0.0" xyz="0.0 0.0 0.0"/>
  </visual>
</link>

<!-- Right Shoulder Yaw IMU -->
<joint name="RIGHT_SHOULDER_YAW_IMU_JOINT" type="fixed">
	<origin rpy="1.570796 0 0.314159" xyz="0.002 0.016 -0.318"/>
	<axis xyz="0 0 1"/>
	<parent link="RIGHT_SHOULDER_YAW_LINK"/> 
	<child link="RIGHT_SHOULDER_YAW_IMU_LINK"/>
</joint>

<link name="RIGHT_SHOULDER_YAW_IMU_LINK">
    <inertial>
      <mass value="0"/>
      <origin rpy="0 0 0" xyz="0 0 0"/>
      <inertia ixx="0.0" ixy="0.0" ixz="0.0" iyy="0.0" iyz="0.0" izz="0.0"/>
    </inertial>
 </link>

<gazebo reference="RIGHT_SHOULDER_YAW_IMU_LINK">
<sensor name="right_shoulder_yaw_imu" type="imu">
  <always_on>true</always_on>
  <imu>
	<noise>
	  <type>gaussian</type>
	  <rate>
		<mean>0</mean>
		<stddev>0.0002</stddev>
		<bias_mean>7.5e-06</bias_mean>
		<bias_stddev>8e-07</bias_stddev>
	  </rate>
	  <accel>
		<mean>0</mean>
		<stddev>0.017</stddev>
		<bias_mean>0.1</bias_mean>
		<bias_stddev>0.001</bias_stddev>
	  </accel>
	</noise>
  </imu>
</sensor>
</gazebo>

<link name="RIGHT_ELBOW_PITCH_LINK">
  <inertial>

      <!-- Normal forearm knub -->
      <mass value="0.616"/>
      <origin rpy="0 0 0" xyz="-0.01090935 0.01147189 -0.10388715"/>
      <inertia ixx="0.00760733" ixy="-2.242e-5" ixz="-2.583e-4" iyy="0.00767556" iyz="-0.00061995" izz="4.554e-4" />

      <!-- 12lbs dumbbell -->
<!--    <mass value="5.9"/>-->
<!--    <origin rpy="0 0 0" xyz="0.05 0.0 -0.225"/>-->
<!--    <inertia ixx="0.05" ixy="2.242e-5" ixz="-2.583e-4" iyy="0.015" iyz="0.00061995" izz="0.05" />-->

  </inertial>
  <visual>
    <geometry>
      <mesh filename="package://nadia_V17_description/meshes/cycloidal_arm/RIGHT_ELBOW_PITCH_LINK_413mm_LENGTH.obj"/>
    </geometry>
      <origin rpy="0.0 0.0 0.0" xyz="0.0 0.0 0.0"/>
  </visual>
</link>

</robot>
